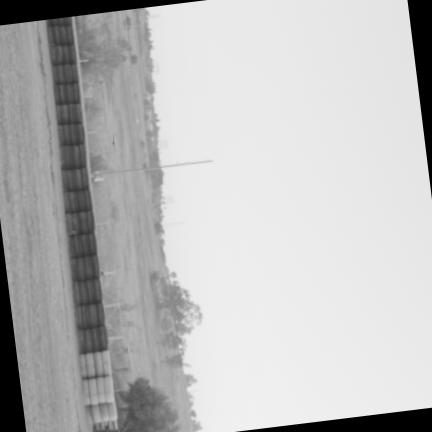Shahed: (111, 134, 114, 151)
